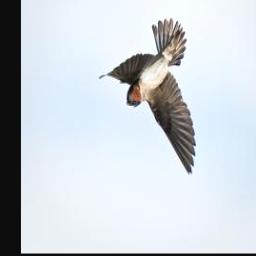Swallow: (98, 15, 198, 178)
